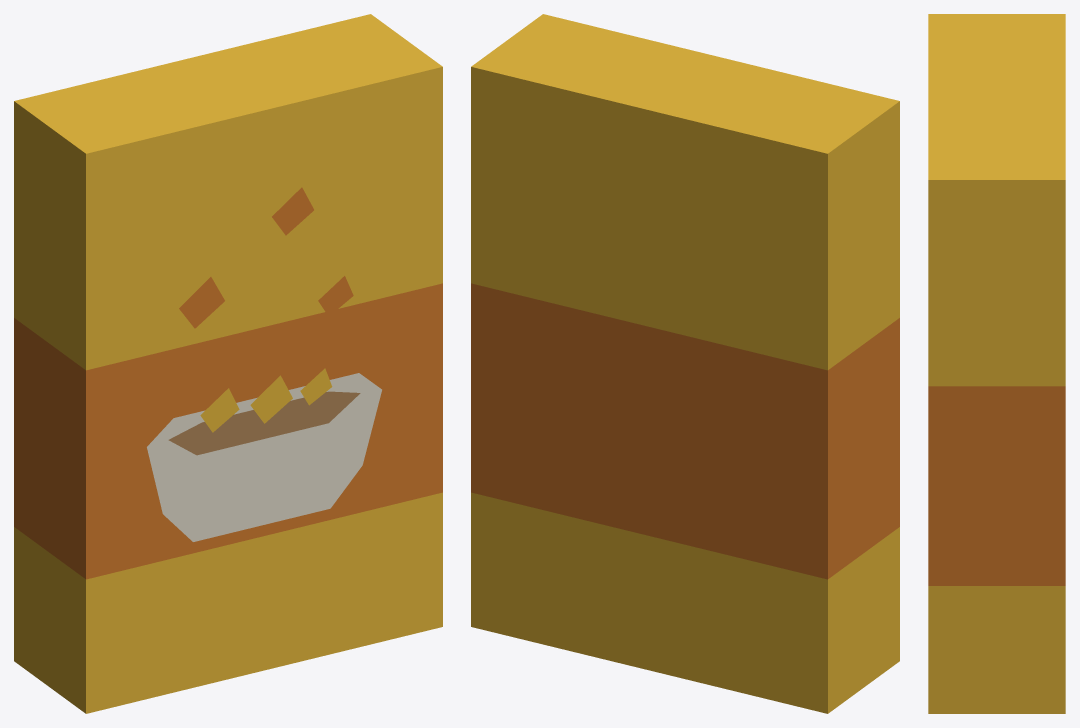
File: cereal_box.glb
3 renders of one model, left to right at view 1: azimuth 30°, elevation 25°; view 2: azimuth 150°, elevation 25°; view 3: azimuth 270°, elevation 25°, orthographic. The views are drawn at different scales.
Visible parts, largest first — view 1: Cereal carton with printed color regions; view 2: Cereal carton with printed color regions; view 3: Cereal carton with printed color regions.
Boxes of the visible parts, box(x1,y1,x2,y2) form: Cereal carton with printed color regions: box(14, 14, 442, 713); Cereal carton with printed color regions: box(471, 14, 899, 713); Cereal carton with printed color regions: box(928, 14, 1065, 713).
Bounding box in the file's own units: 0.2 × 0.3 × 0.07.
